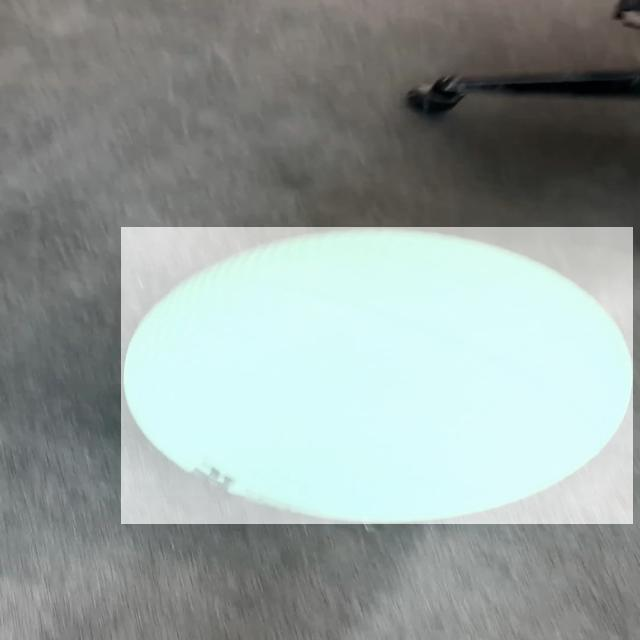Algae: (121, 227, 633, 524)
